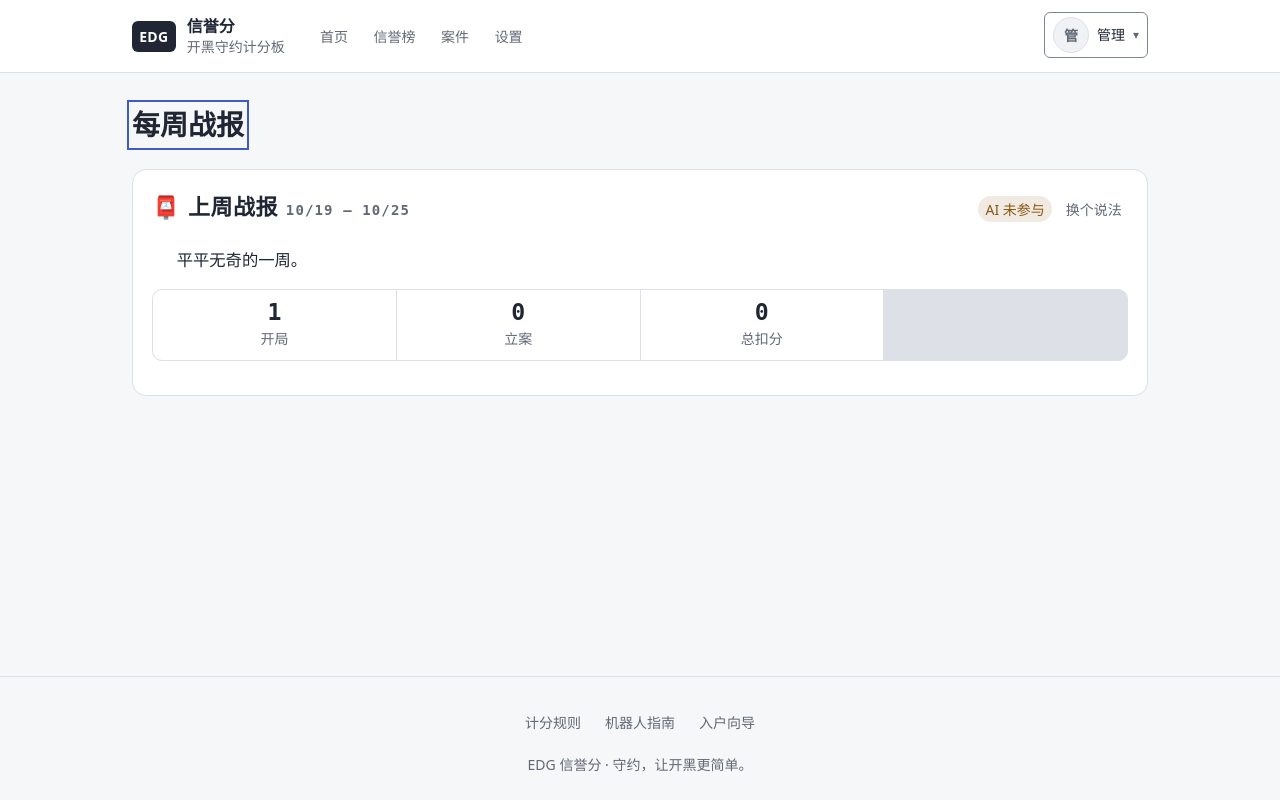
App — the admin re-rolls the weekly report › a failed re-roll says so in a toast — never an alert — and the button comes back
The image size is (1280, 800).
Click the button "换个说法": (1094, 209) [1060,187,1128,231]
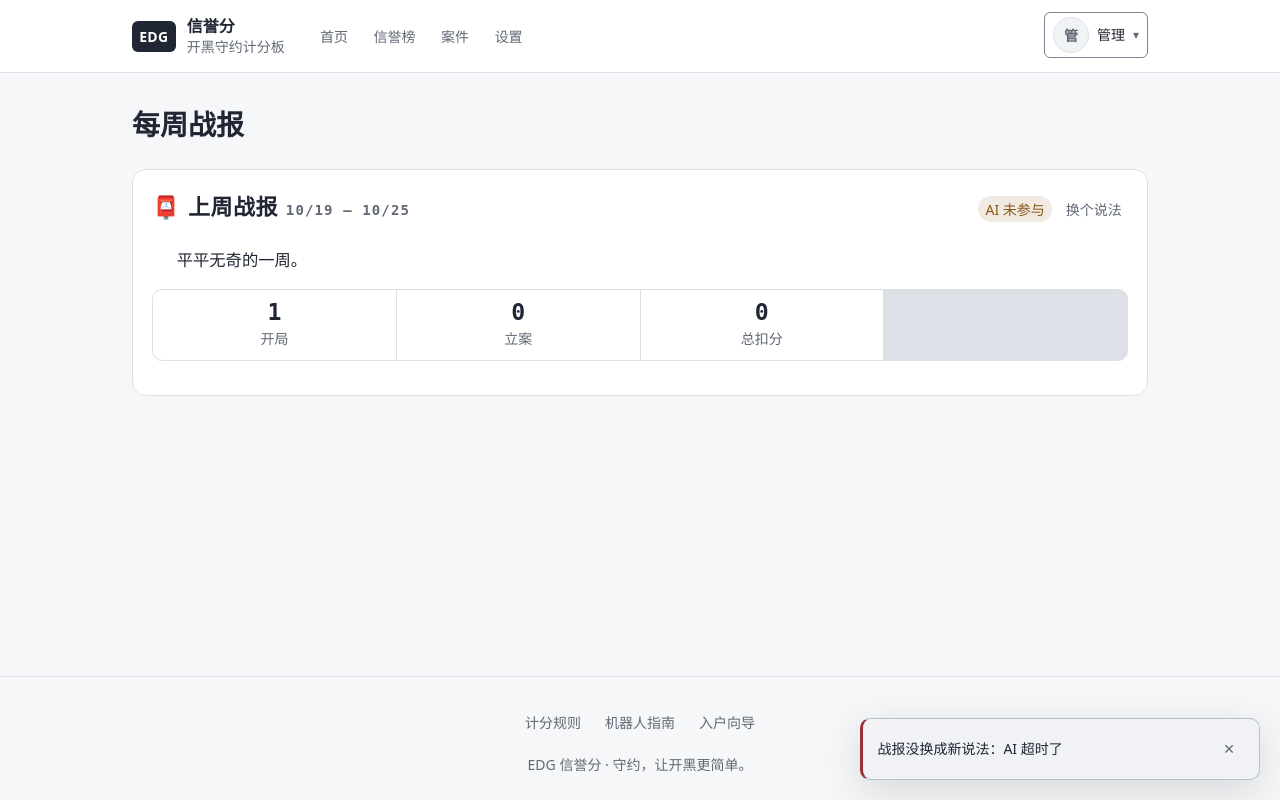
Expected: the text "战报没换成新说法：AI 超时了" is shown, [877,739,1063,758]
